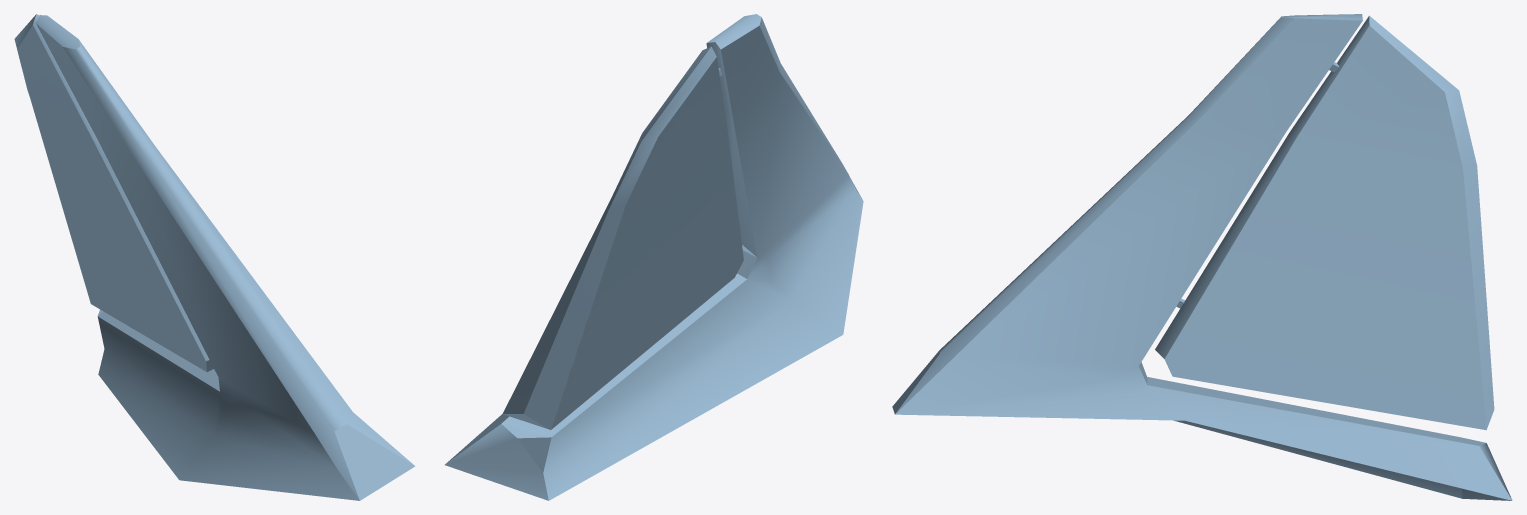
Rendered from keel dwn small R.FBX.
3 renders of one model, left to right at view 1: azimuth 30°, elevation 25°; view 2: azimuth 150°, elevation 25°; view 3: azimuth 270°, elevation 25°, orthographic. The views are drawn at different scales.
Visible parts, largest first — view 1: Group33; view 2: Group33; view 3: Group33.
Boxes of the visible parts, bbox=[...] form: Group33: bbox=[14, 14, 415, 500]; Group33: bbox=[445, 14, 863, 500]; Group33: bbox=[892, 14, 1512, 500].
Size of the model in its own units: 0.0262 by 0.0723 by 0.0555.
